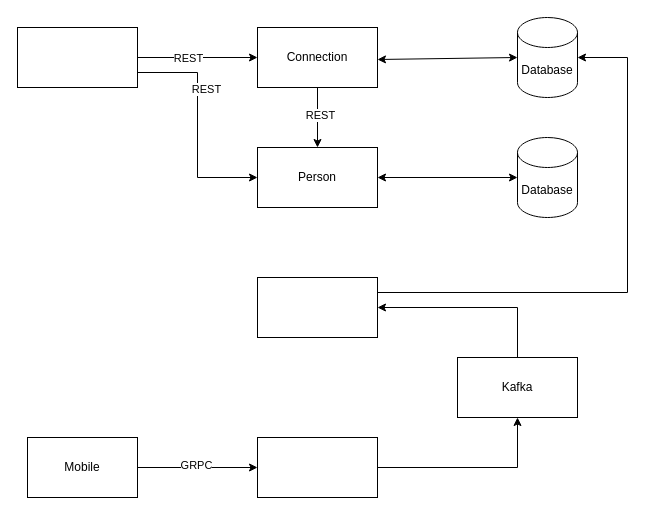
Some shapes in this 653 by 515 pixel diagram are drawn without their labels. Here are the shapes that lost their labels. From the top down, the centre of each, then its label:
the point at 77,57: Frontend
the point at 317,307: Location Processor
the point at 317,467: Location Event
